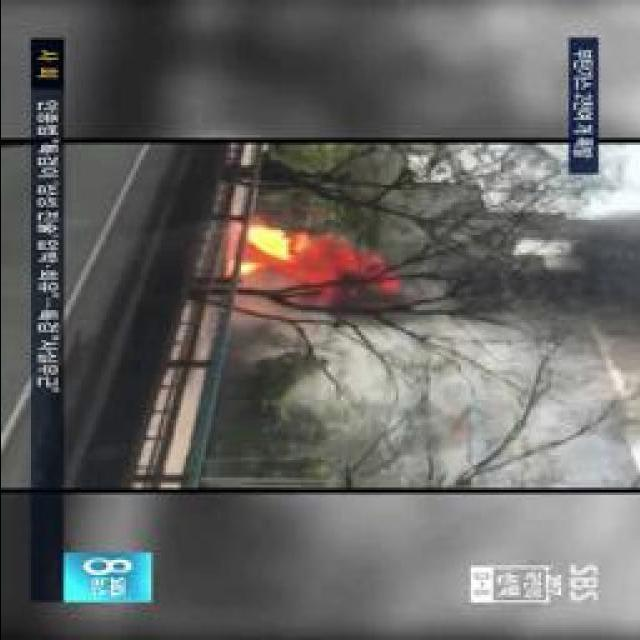Fire: (244, 224, 380, 294)
